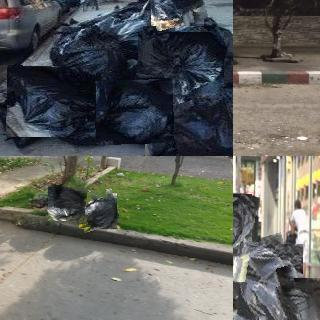Garbage: (141, 78, 233, 156), (233, 238, 312, 320), (7, 66, 96, 138), (136, 29, 226, 97), (54, 17, 126, 90), (96, 80, 174, 145), (233, 191, 255, 279), (282, 275, 320, 320), (77, 191, 119, 231), (148, 0, 206, 28), (47, 186, 86, 222)
